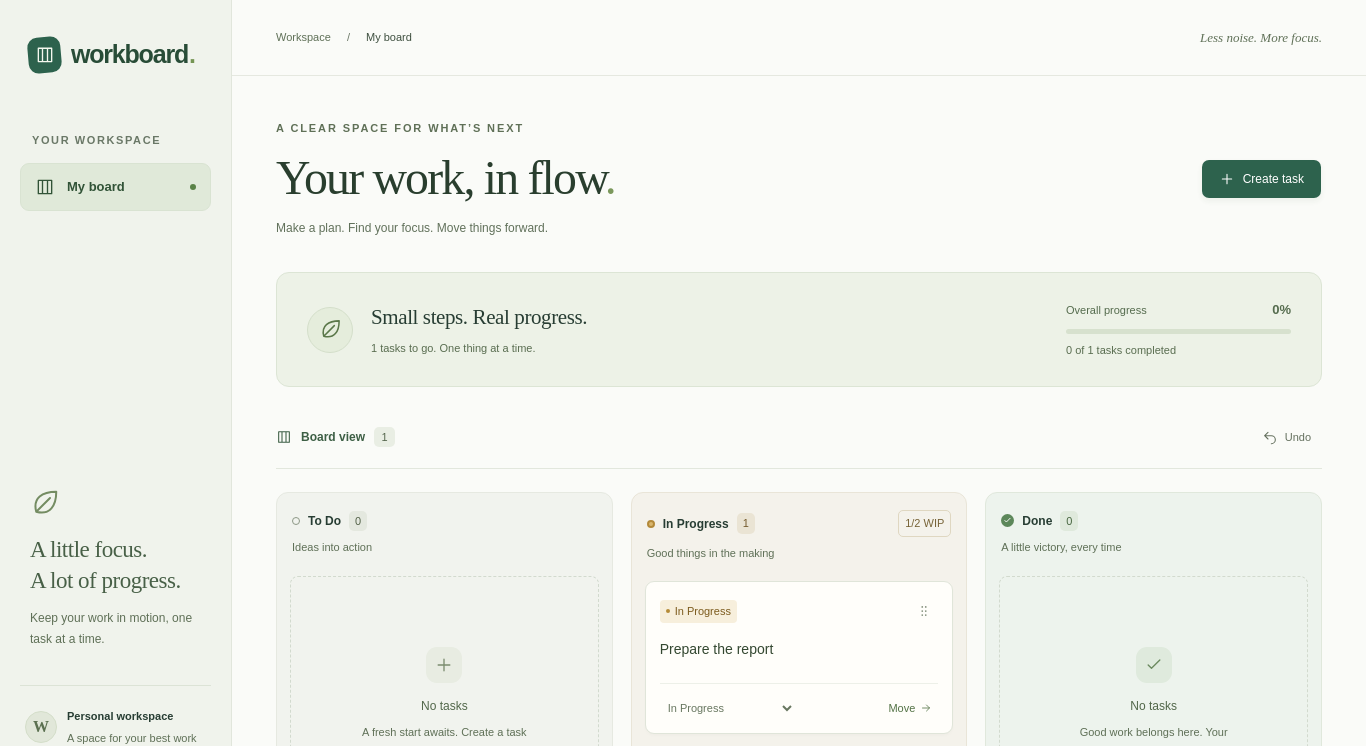
Test: BoardView › shows a successful undo and renders the returned board
Click the button "Undo": (1286, 437) [1251, 421, 1322, 453]
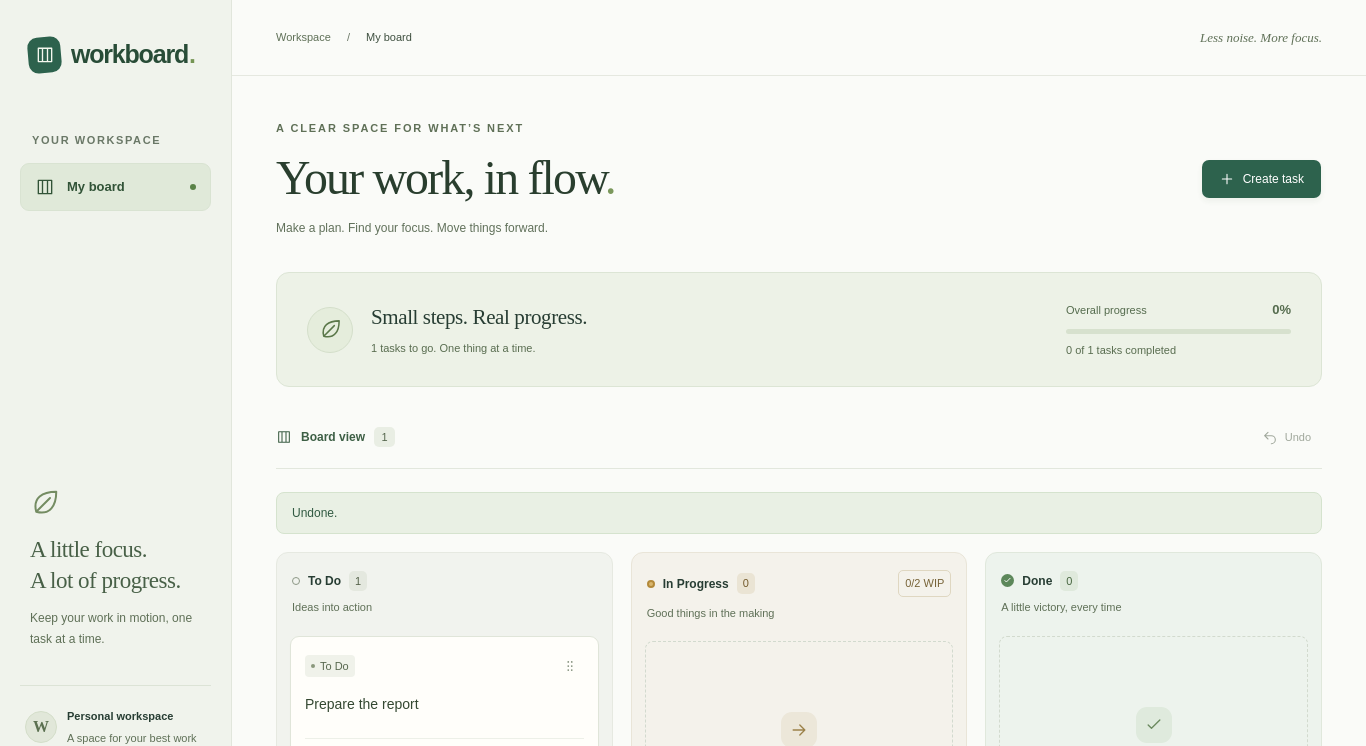
Expected: the heading "Prepare the report" is shown, [305, 696, 419, 712]
Result: the text "Undone." is shown at [276, 492, 1322, 534]
Result: the heading named "In Progress — 0/2" is shown at [663, 575, 729, 593]
